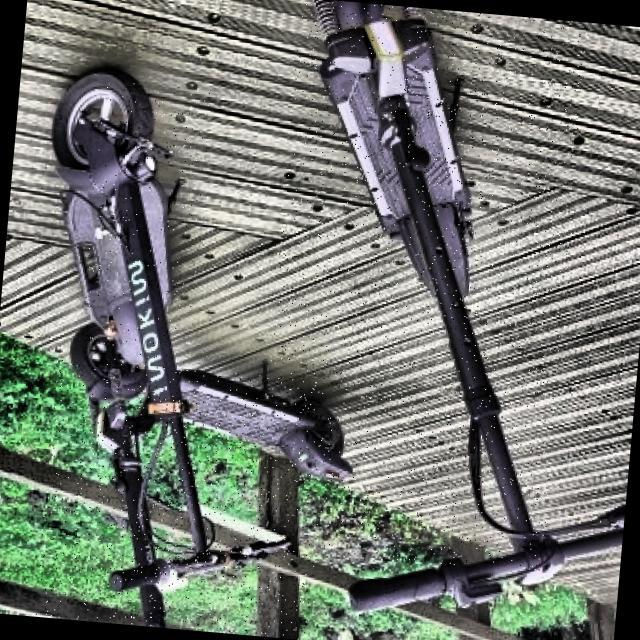bike: (39, 53, 584, 636), (48, 68, 355, 617)
